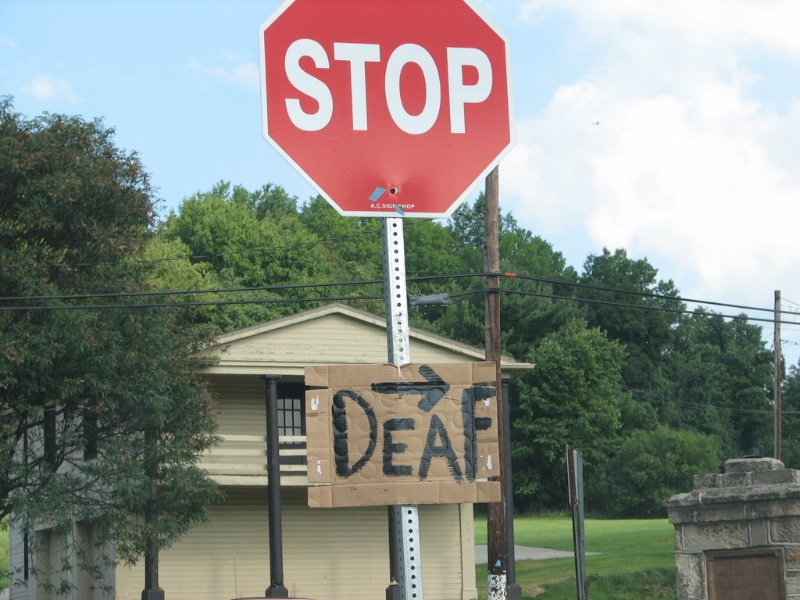stop: (253, 8, 527, 221)
